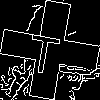T: (25, 25, 63, 76)
